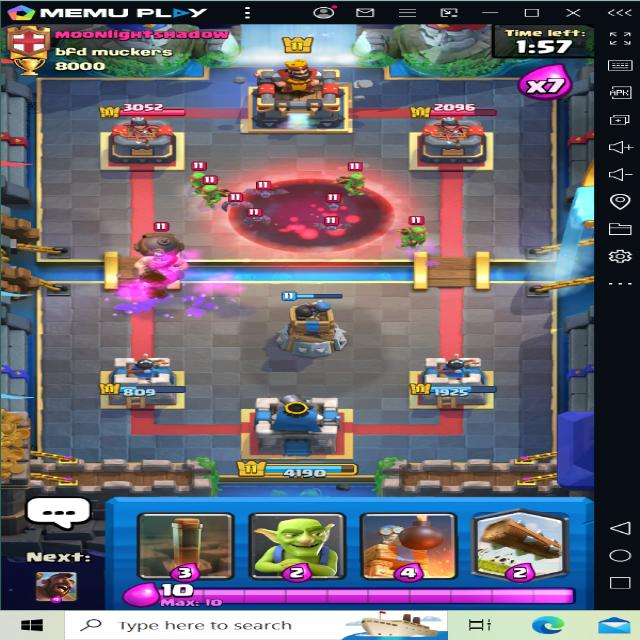bats: (250, 180, 280, 202), (242, 206, 276, 224), (316, 213, 346, 231), (316, 194, 342, 210)
mighty-miner: (116, 215, 202, 287)
spear-goblin: (410, 214, 447, 246), (336, 165, 368, 196), (196, 183, 228, 209), (185, 168, 217, 192)
void: (232, 168, 395, 254)
